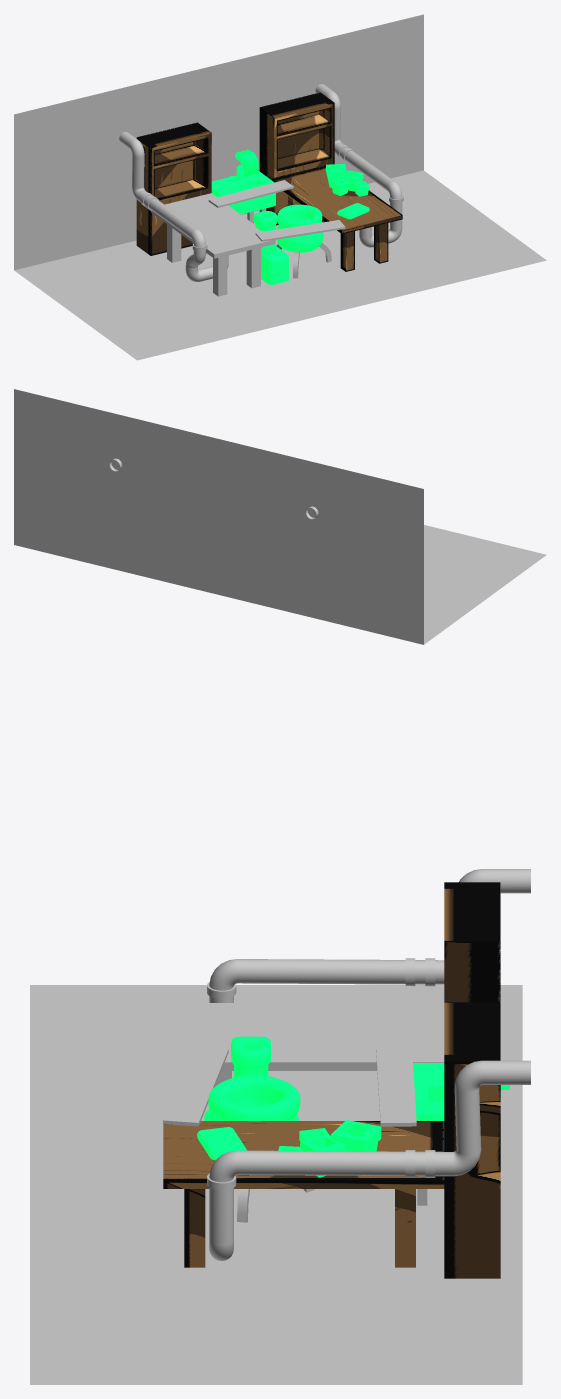
File: Environment_04_Kitchen.fbx
The picture shows the model from 3 angles, top to bottom: view 1: azimuth 30°, elevation 25°; view 2: azimuth 150°, elevation 25°; view 3: azimuth 270°, elevation 25°; orthographic projection. The views are drawn at different scales.
Visible parts, largest first — view 1: OBJ_Background, OBJ_Left_cabinet, OBJ_Right_cabinet, OBJ_Left_table, OBJ_Right_table, OBJ_Left_Pipe, OBJ_Right_Pipe, OBJ_Sink_outline, OBJ_Cauldron_outline, OBJ_Furnace_outline, OBJ_Pots_outline, OBJ_Front_plank (+1 smaller); view 2: OBJ_Background; view 3: OBJ_Background, OBJ_Left_table, OBJ_Right_table, OBJ_Right_cabinet, OBJ_Right_Pipe, OBJ_Left_Pipe, OBJ_Left_cabinet, OBJ_Cauldron_outline, OBJ_Front_plank, OBJ_Back_plank, OBJ_Pots_outline, OBJ_Sink_outline (+2 smaller).
Part boxes in pixels (box(x1,y1,x2,y2)): OBJ_Background: box(14, 14, 546, 360); OBJ_Left_cabinet: box(136, 122, 211, 255); OBJ_Right_cabinet: box(259, 92, 334, 225); OBJ_Left_table: box(151, 193, 274, 296); OBJ_Right_table: box(271, 163, 402, 271); OBJ_Left_Pipe: box(119, 132, 228, 281); OBJ_Right_Pipe: box(315, 84, 403, 247); OBJ_Sink_outline: box(211, 149, 275, 214); OBJ_Cauldron_outline: box(276, 204, 323, 252); OBJ_Furnace_outline: box(253, 211, 288, 284); OBJ_Pots_outline: box(325, 164, 369, 196); OBJ_Front_plank: box(255, 220, 345, 241); OBJ_Background: box(14, 389, 546, 644); OBJ_Background: box(30, 985, 522, 1384); OBJ_Left_table: box(190, 1003, 444, 1086); OBJ_Right_table: box(163, 1121, 444, 1267); OBJ_Right_cabinet: box(444, 1002, 500, 1278); OBJ_Right_Pipe: box(207, 1060, 530, 1260); OBJ_Left_Pipe: box(207, 869, 530, 1002); OBJ_Left_cabinet: box(444, 882, 500, 1002); OBJ_Cauldron_outline: box(208, 1075, 300, 1121); OBJ_Front_plank: box(163, 1046, 228, 1126); OBJ_Back_plank: box(376, 1047, 416, 1126); OBJ_Pots_outline: box(278, 1120, 381, 1177); OBJ_Sink_outline: box(413, 1063, 509, 1120).
Bounding box in the file's own units: 9.01 × 3.31 × 4.77.
